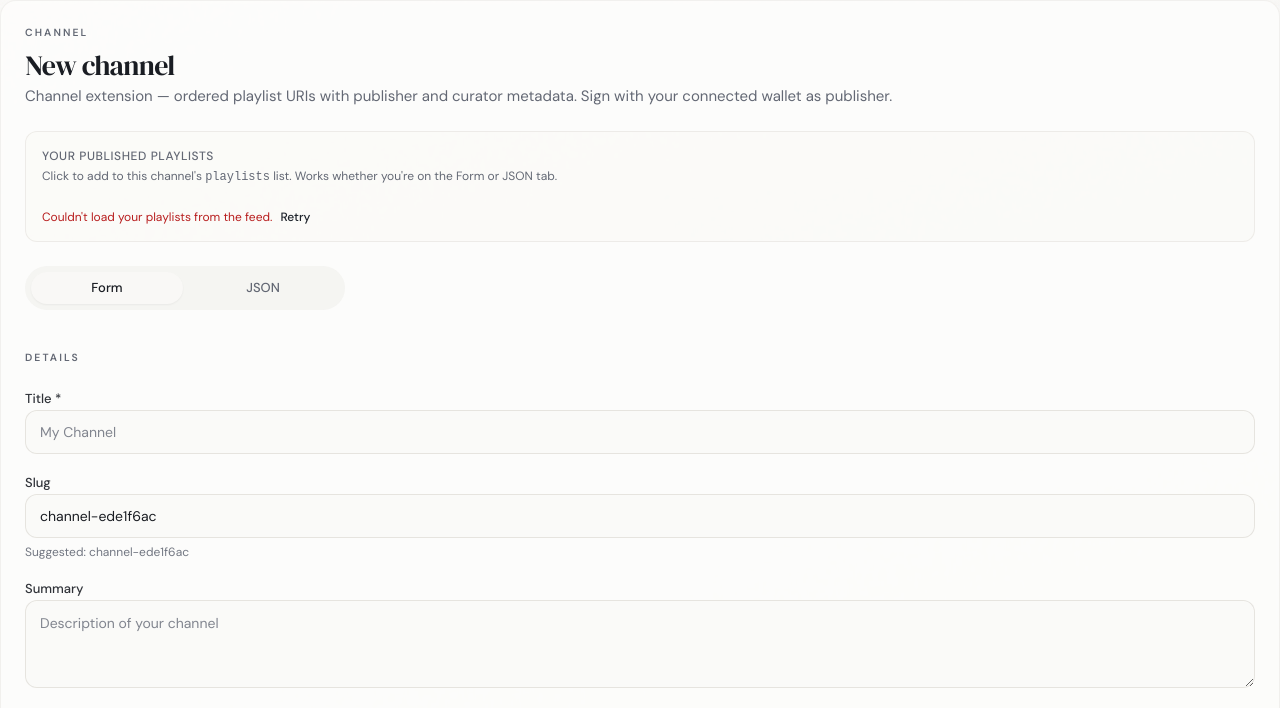
Scenario: ChannelForm — publish flow › playlist picker surfaces a feed failure with a retry that recovers
Check: the text "Couldn't load your playlists from the feed. Retry" is shown, box [42, 209, 310, 225]
Click the button "Retry" at (295,217), box [280, 209, 310, 225]
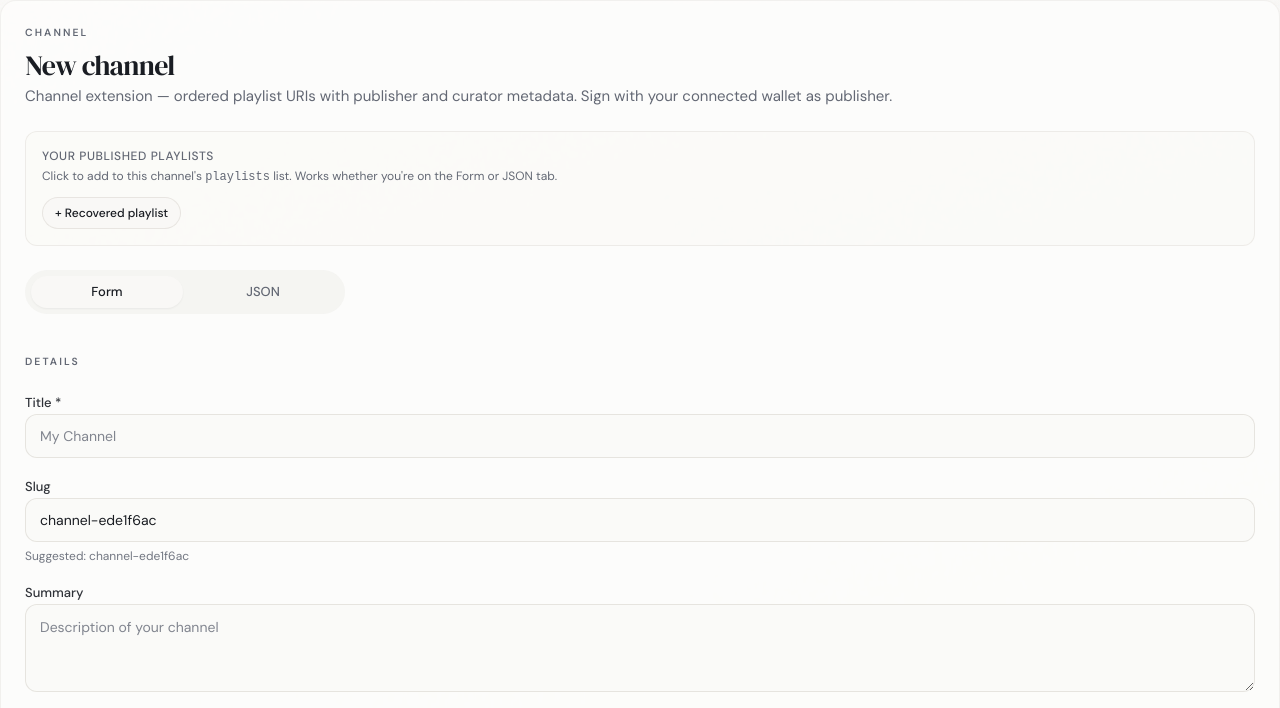
Check: the button "+ Recovered playlist" is shown, box [42, 197, 181, 229]
Check: the text "Couldn't load your playlists" is gone
